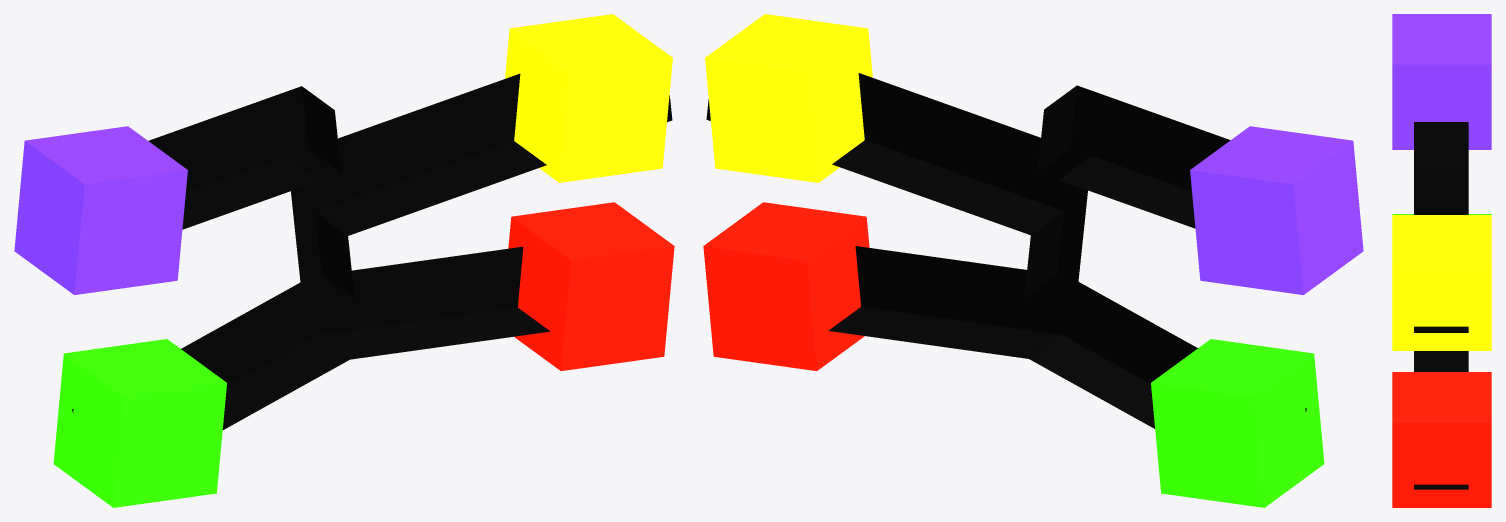
File: Art Piece  Low Polly.gltf
The picture shows the model from 3 angles, left to right: view 1: azimuth 30°, elevation 25°; view 2: azimuth 150°, elevation 25°; view 3: azimuth 270°, elevation 25°; orthographic projection. The views are drawn at different scales.
Parts seen in each view (by area): view 1: Cube.001; view 2: Cube.001; view 3: Cube.001.
Part boxes in pixels (x1,y1,x2,y2): Cube.001: [14, 14, 674, 507]; Cube.001: [703, 14, 1363, 507]; Cube.001: [1392, 14, 1491, 507].
Bounding box in the file's own units: 5.94 × 3.17 × 1.01.
